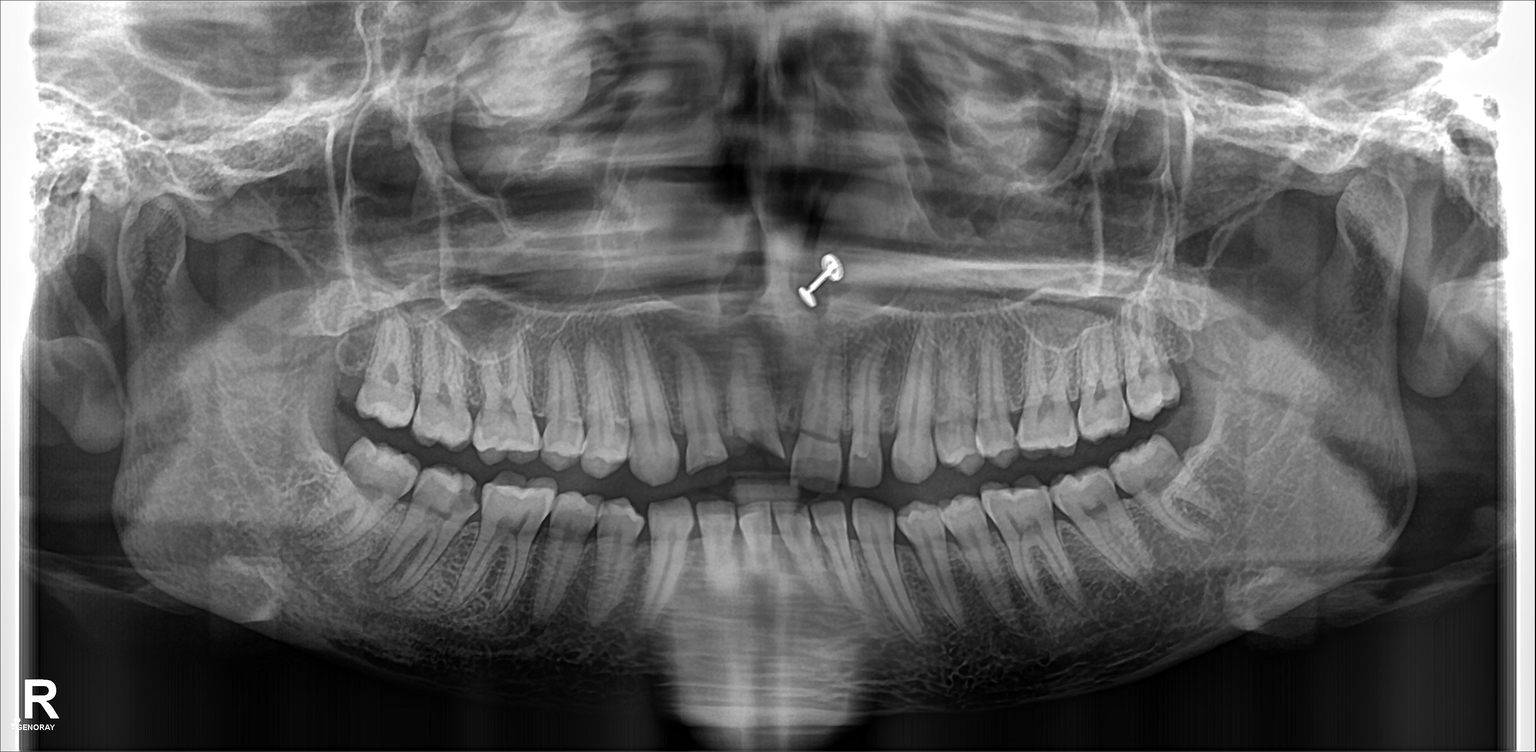Impacted Third Molar: (320, 441, 413, 538), (1108, 452, 1208, 533)
Tooth Fracture: (721, 411, 784, 465), (795, 417, 843, 478)
